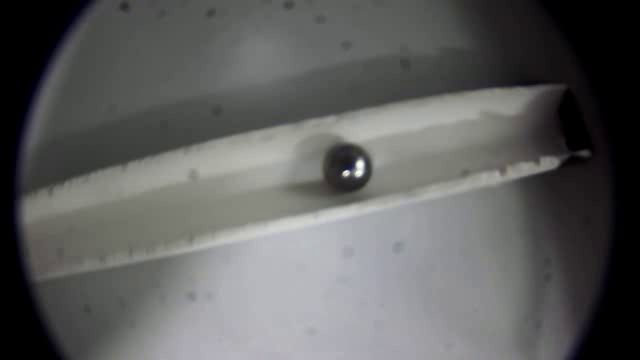gangzhu: (325, 141, 374, 191)
